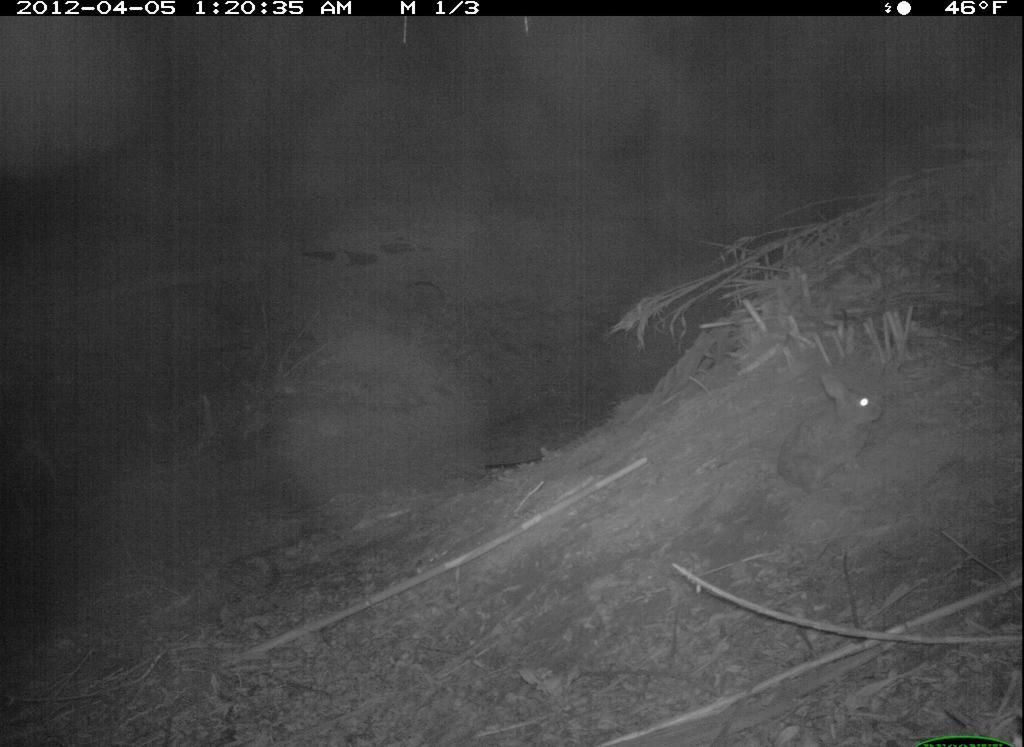rabbit: (769, 367, 895, 509)
